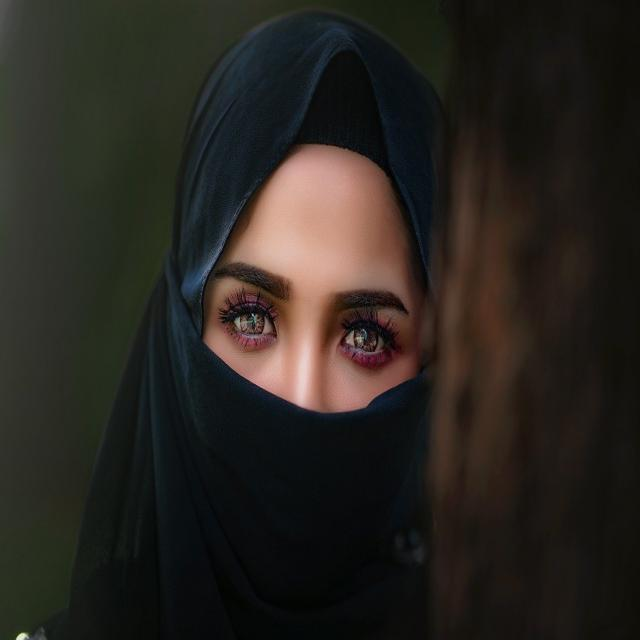face: (198, 143, 426, 565)
